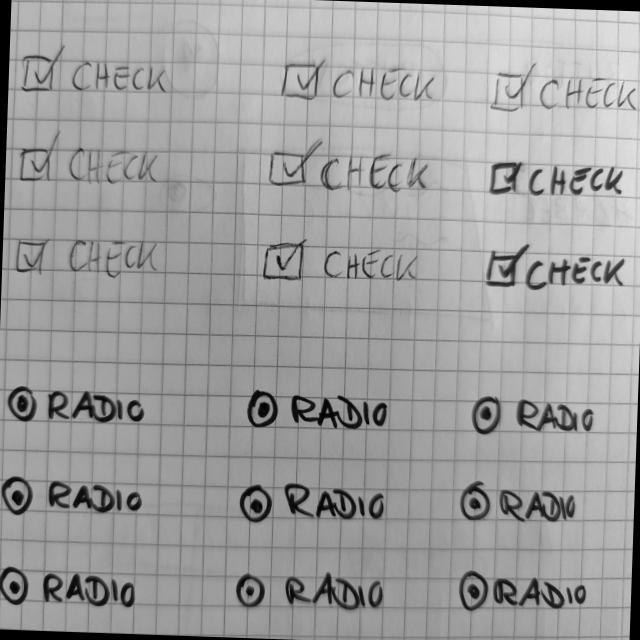checkbox: (266, 138, 435, 197), (486, 60, 640, 122), (16, 130, 166, 192), (19, 44, 175, 102), (278, 52, 439, 108), (261, 235, 425, 289), (14, 230, 166, 283), (484, 242, 630, 295), (485, 155, 631, 203)
radio: (234, 567, 387, 619), (235, 481, 389, 531), (1, 561, 139, 616), (457, 565, 592, 620), (244, 387, 392, 437), (4, 381, 153, 430), (1, 473, 150, 522), (469, 390, 603, 442), (457, 477, 581, 527)
